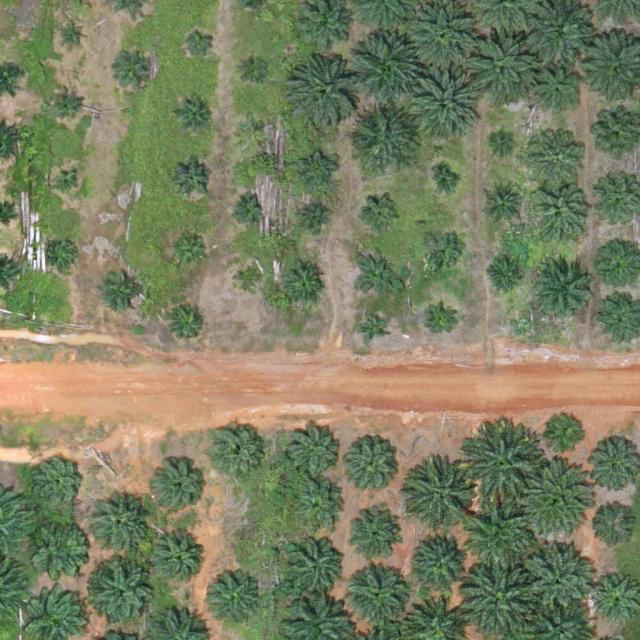Healthy: (464, 430, 542, 509), (286, 54, 364, 133), (524, 544, 594, 615), (527, 465, 597, 536), (466, 504, 537, 574), (460, 567, 531, 637), (89, 560, 159, 631), (466, 29, 536, 100), (407, 68, 478, 138), (347, 104, 418, 174), (353, 32, 423, 102), (340, 433, 403, 496), (200, 571, 263, 634), (413, 531, 475, 594), (349, 564, 411, 627), (90, 493, 152, 556), (531, 260, 593, 323), (410, 467, 472, 529), (284, 535, 346, 597), (31, 513, 93, 575), (345, 506, 400, 561), (287, 426, 342, 481), (209, 424, 264, 479), (148, 531, 203, 586), (154, 461, 209, 516), (528, 129, 583, 184), (533, 188, 588, 243), (295, 478, 349, 533), (32, 459, 86, 514), (532, 68, 579, 116)
Small: (101, 267, 148, 315), (589, 506, 636, 554), (281, 261, 328, 308), (354, 250, 401, 297), (119, 49, 159, 89), (173, 94, 213, 134), (547, 413, 587, 453), (173, 160, 213, 199), (169, 305, 209, 344), (487, 259, 526, 299), (169, 231, 209, 270), (299, 152, 338, 191), (597, 248, 636, 287), (364, 195, 403, 234), (421, 231, 460, 270), (425, 307, 456, 339), (303, 201, 334, 233), (358, 313, 389, 345), (239, 51, 270, 83), (238, 111, 269, 143), (232, 192, 263, 224), (186, 27, 217, 59), (51, 239, 82, 270), (489, 188, 520, 219), (235, 265, 266, 296), (52, 88, 83, 119), (494, 132, 518, 156), (62, 24, 86, 48), (56, 173, 80, 197), (434, 170, 457, 194)
